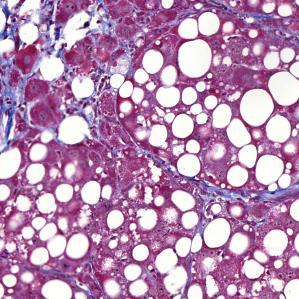fibrosis: (0, 53, 66, 135), (80, 82, 128, 145)
